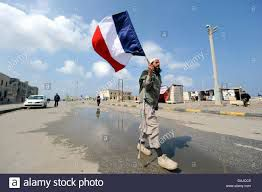French Flag: (91, 11, 145, 72)
